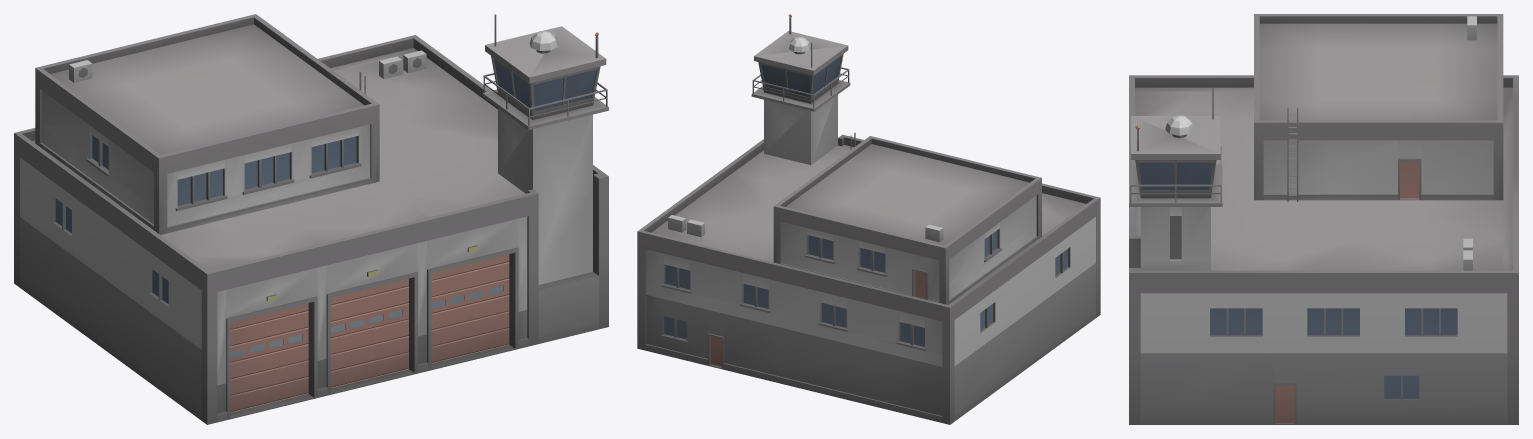
File: fire.glb
3 views of the same model, side by side, from view 1: azimuth 30°, elevation 25°; view 2: azimuth 150°, elevation 25°; view 3: azimuth 270°, elevation 25° (orthographic). The views are drawn at different scales.
Visible parts, largest first — view 1: fire; view 2: fire; view 3: fire.
Boxes of the visible parts, left/top/right/bottom form: fire: left=14, top=14, right=608, bottom=424; fire: left=637, top=14, right=1100, bottom=424; fire: left=1129, top=14, right=1518, bottom=424.
Size of the model in its own units: 24 by 17.1 by 20.
